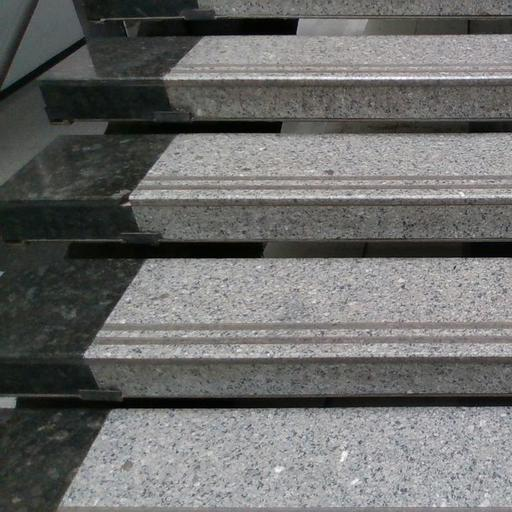stairs: (0, 0, 511, 511), (84, 258, 511, 397), (0, 133, 511, 241), (60, 407, 511, 511), (41, 34, 511, 121), (83, 0, 511, 20)
